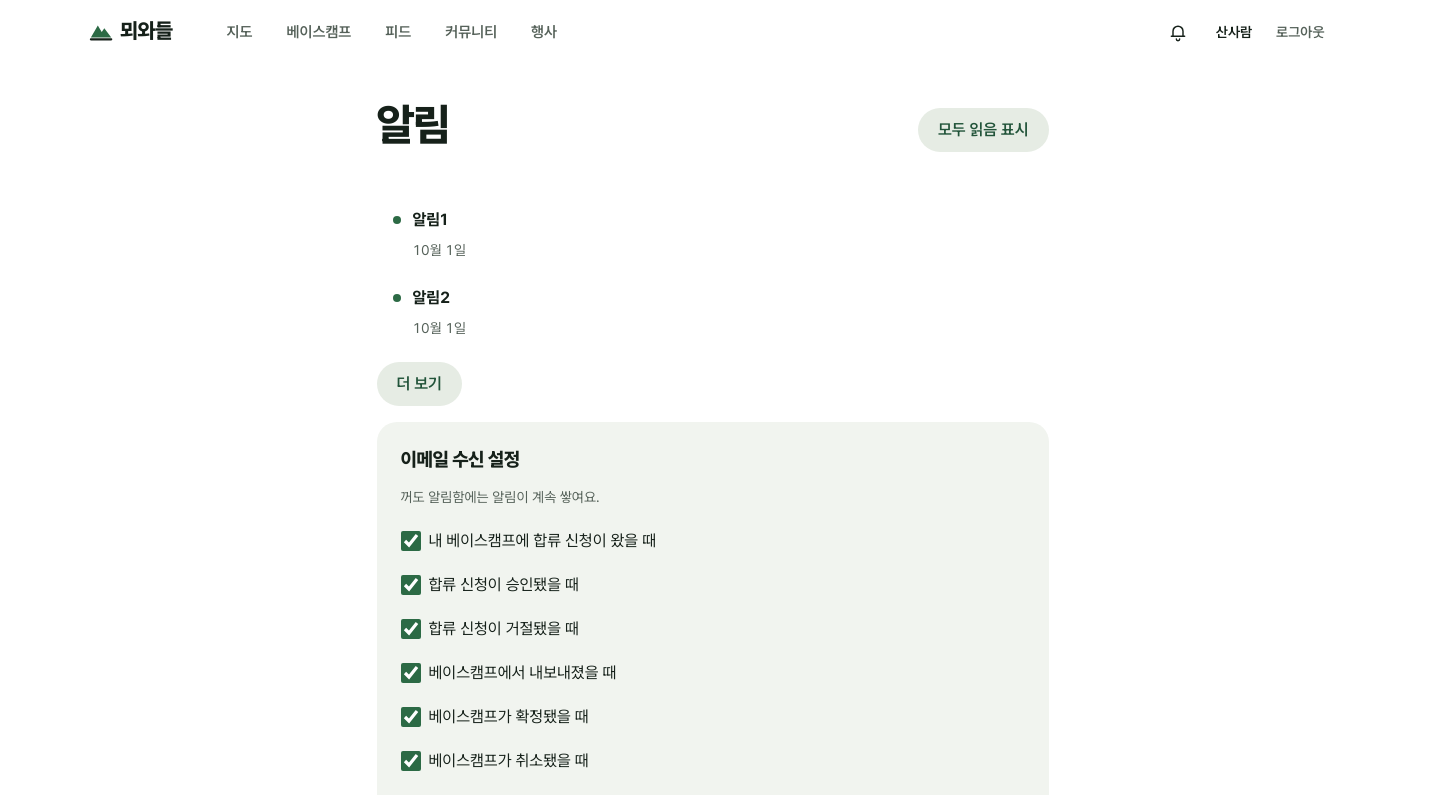
Scenario: 알림 화면 › 더 보기를 누르면 다음 쪽 알림이 아래에 붙고 더 보기 버튼이 사라진다
Expected: the text "알림3" is not shown
Click the button "더 보기".
click(419, 384)  # box [376,362,462,406]
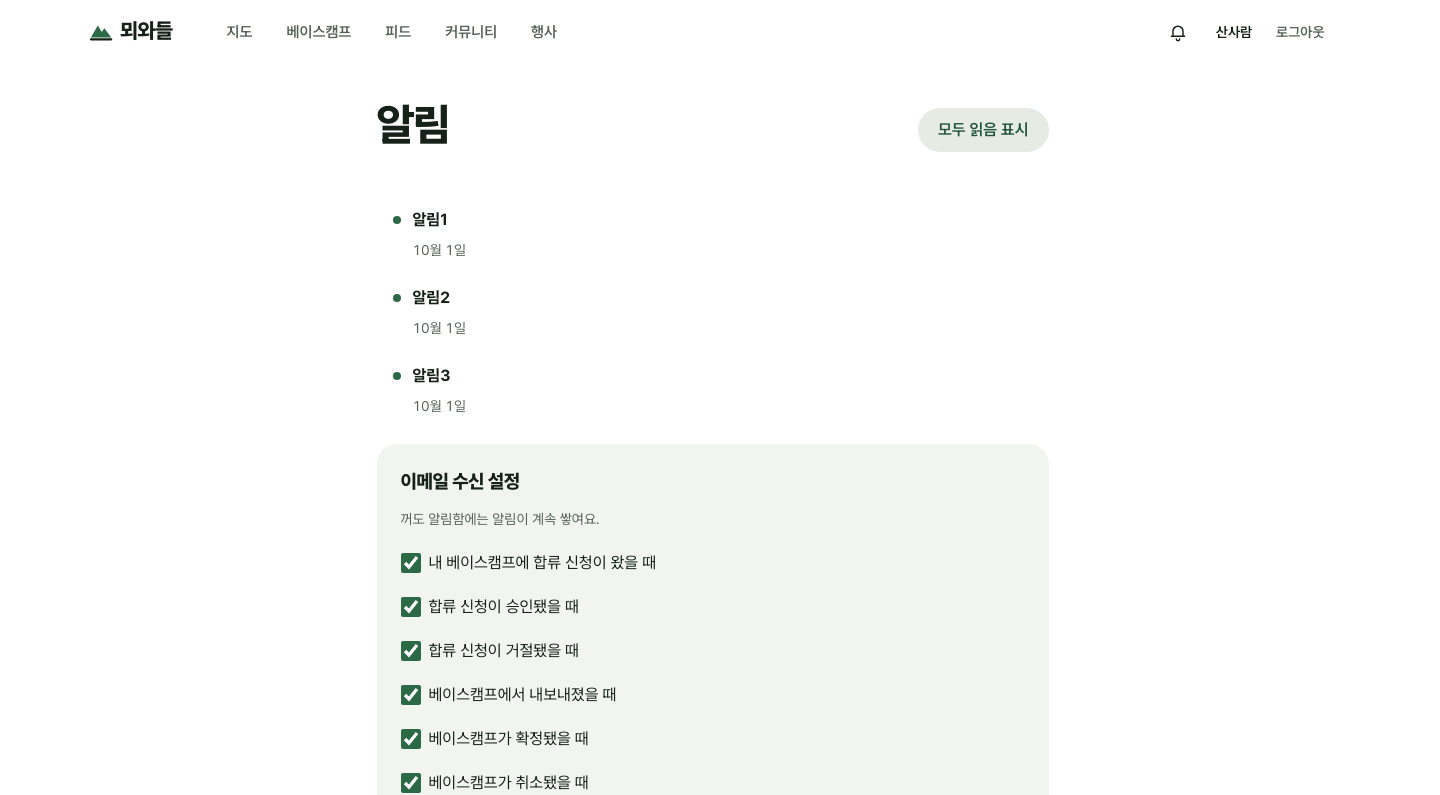
Expected: the text "알림1 10월 1일 알림2 10월 1일 알림3 10월 1일" is shown, [376,196,1048,428]
